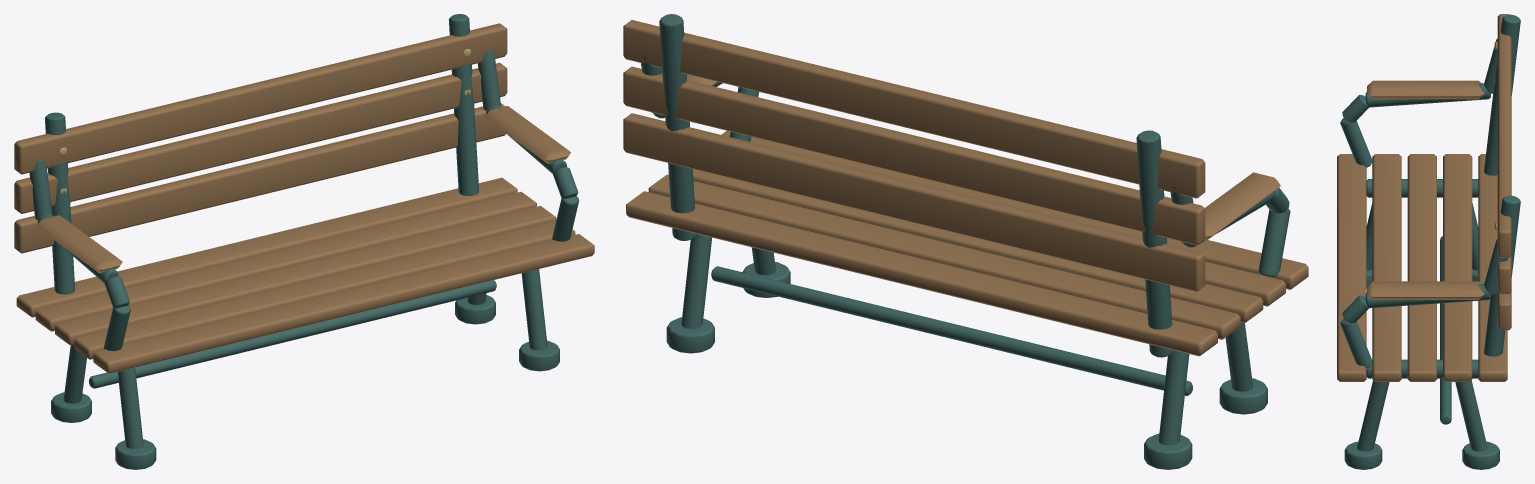
Rendered from station_bench.glb.
The picture shows the model from 3 angles, left to right: view 1: azimuth 30°, elevation 25°; view 2: azimuth 150°, elevation 25°; view 3: azimuth 270°, elevation 25°; orthographic projection. The views are drawn at different scales.
Visible parts, largest first — view 1: station_bench; view 2: station_bench; view 3: station_bench.
Part boxes in pixels (x1=…): station_bench: x1=14, y1=14, x2=594, y2=469; station_bench: x1=623, y1=14, x2=1308, y2=469; station_bench: x1=1337, y1=14, x2=1520, y2=469.
Bounding box in the file's own units: 2.2 × 1.24 × 0.7813.
